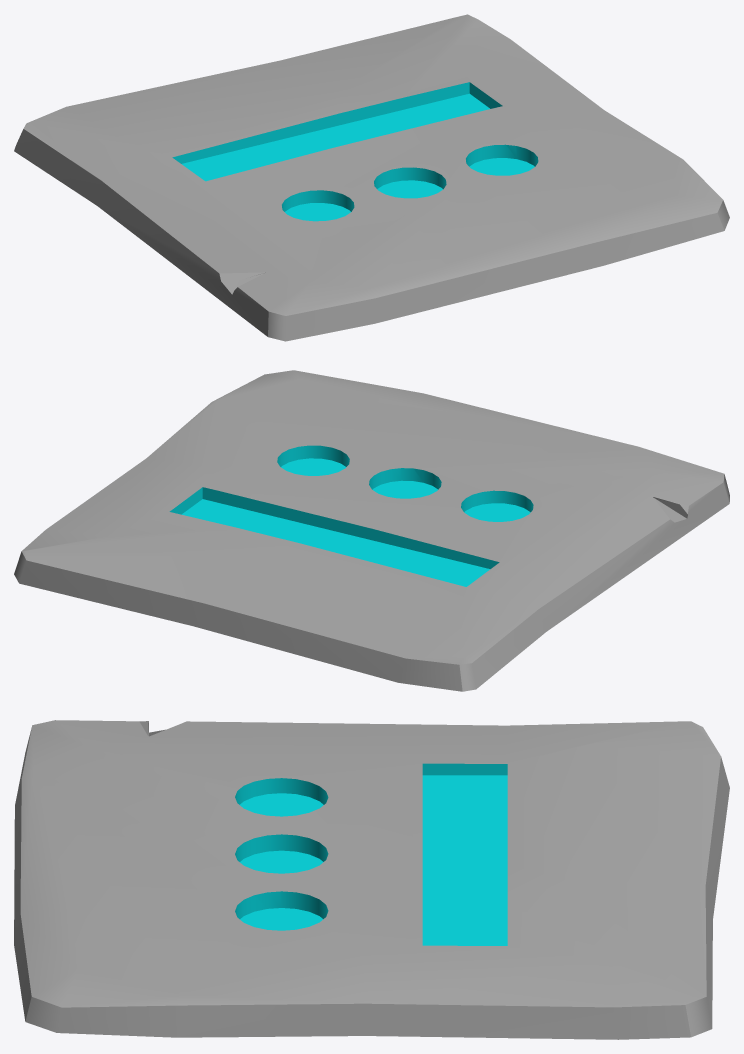
File: dalle8.fbx
The picture shows the model from 3 angles, top to bottom: view 1: azimuth 30°, elevation 25°; view 2: azimuth 150°, elevation 25°; view 3: azimuth 270°, elevation 25°; orthographic projection. The views are drawn at different scales.
Visible parts, largest first — view 1: pCube5; view 2: pCube5; view 3: pCube5.
Boxes of the visible parts, box(x1,y1,x2,y2) form: pCube5: box(14, 14, 729, 341); pCube5: box(14, 370, 729, 691); pCube5: box(14, 720, 729, 1039).
Bounding box in the file's own units: 6.99 × 0.4395 × 7.18.
